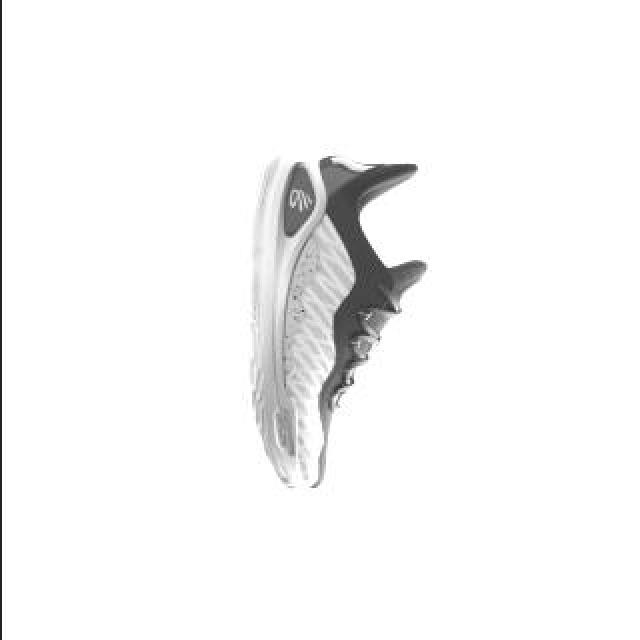shoe: (246, 148, 426, 494)
